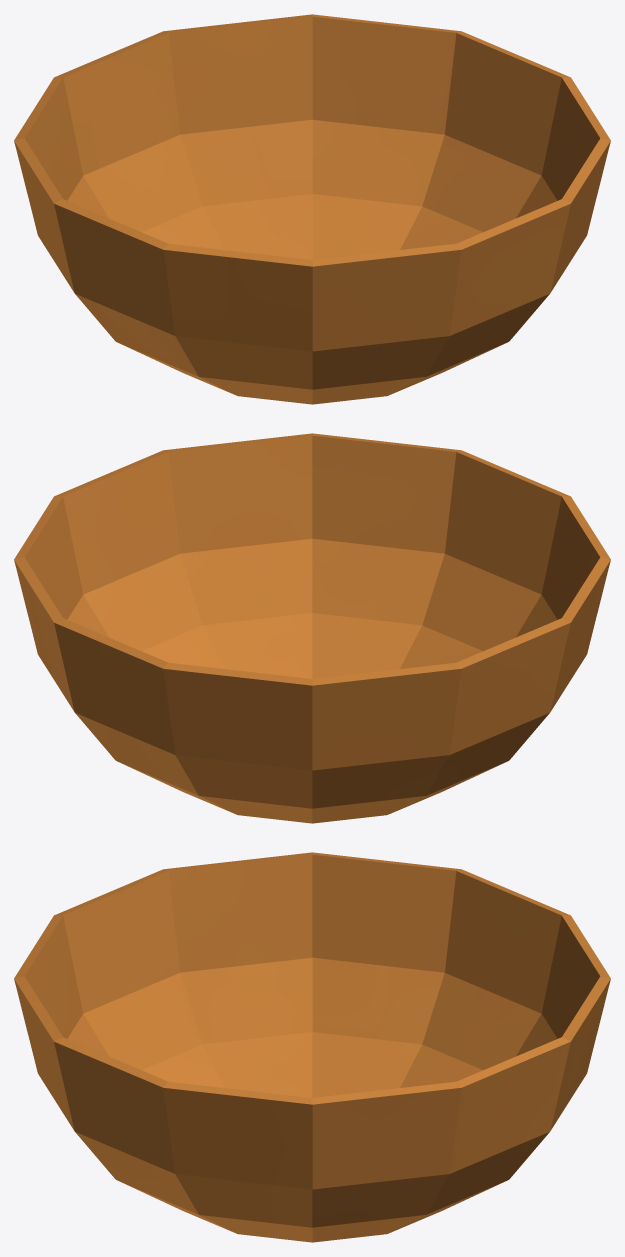
Rendered from Bowl.fbx.
The picture shows the model from 3 angles, top to bottom: view 1: azimuth 30°, elevation 25°; view 2: azimuth 150°, elevation 25°; view 3: azimuth 270°, elevation 25°; orthographic projection.
Visible parts, largest first — view 1: Bowl; view 2: Bowl; view 3: Bowl.
Boxes of the visible parts, x1=… form: Bowl: x1=14, y1=14, x2=610, y2=404; Bowl: x1=14, y1=433, x2=610, y2=823; Bowl: x1=14, y1=852, x2=610, y2=1242.
Bounding box in the file's own units: 21.91 × 8.22 × 21.91.
